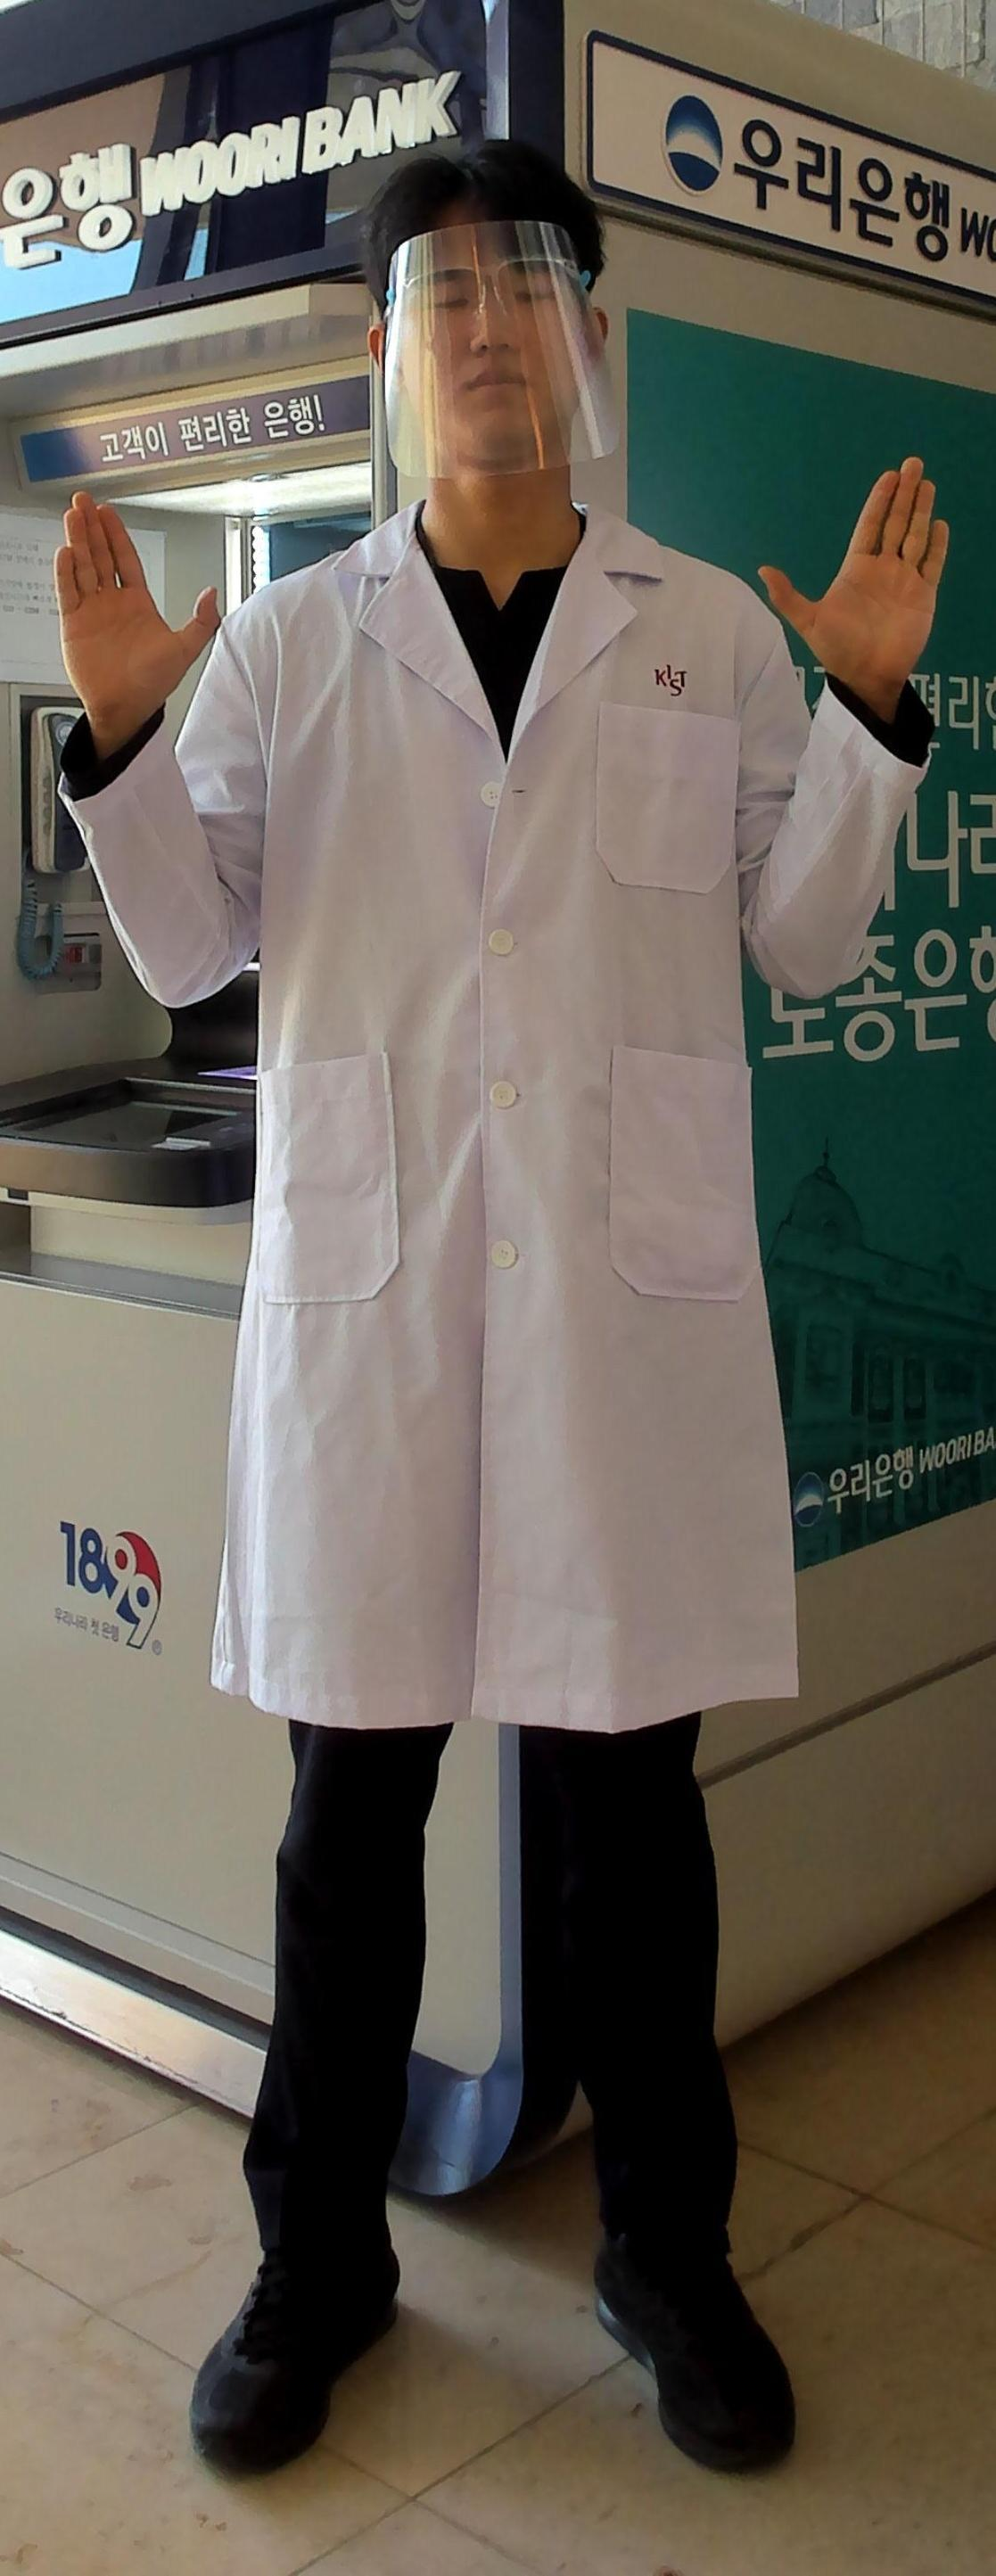lab_coat: (204, 593, 768, 1684)
